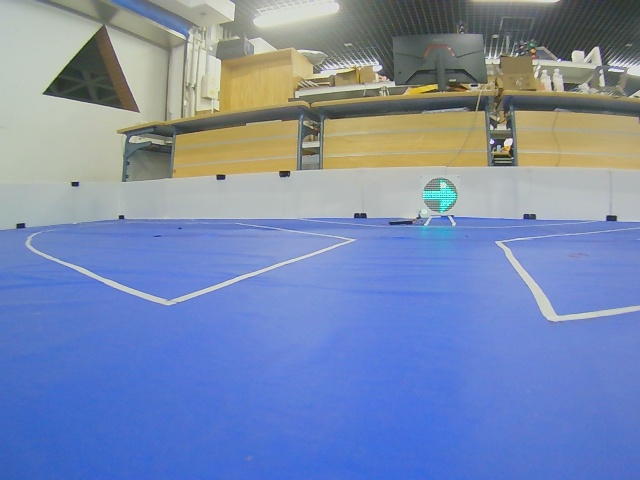right_green: (423, 178, 458, 214)
